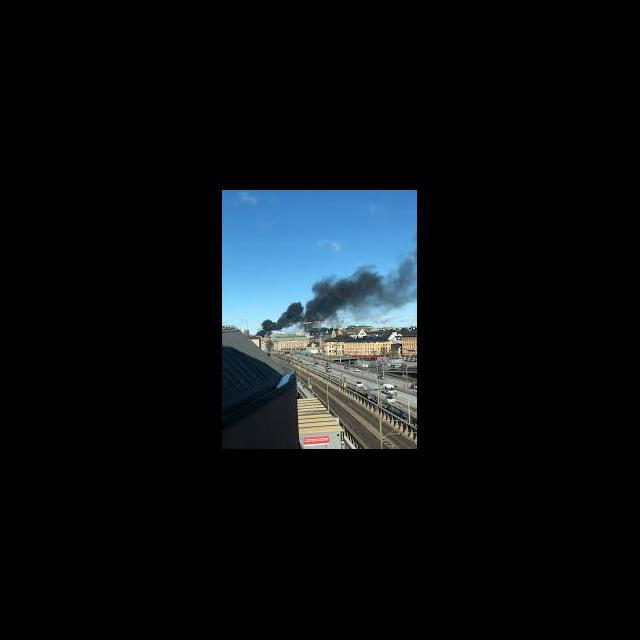Smoke: (266, 270, 415, 323)
